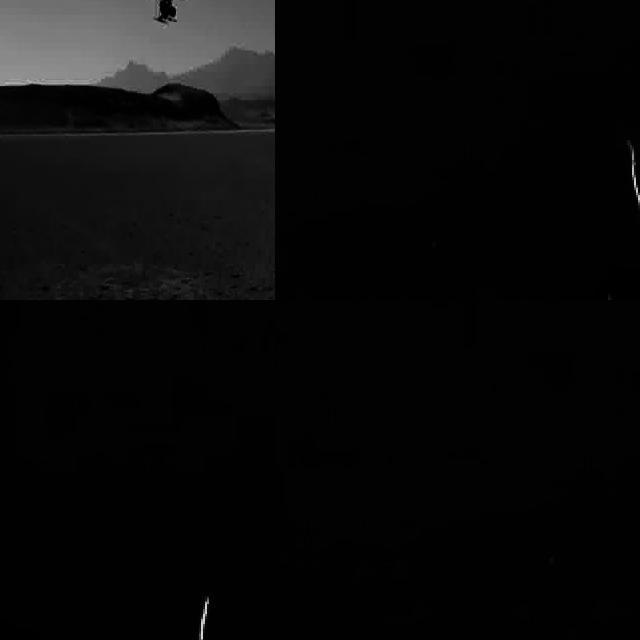0: (539, 547, 563, 579), (422, 230, 444, 262)
drone: (131, 0, 196, 28)
